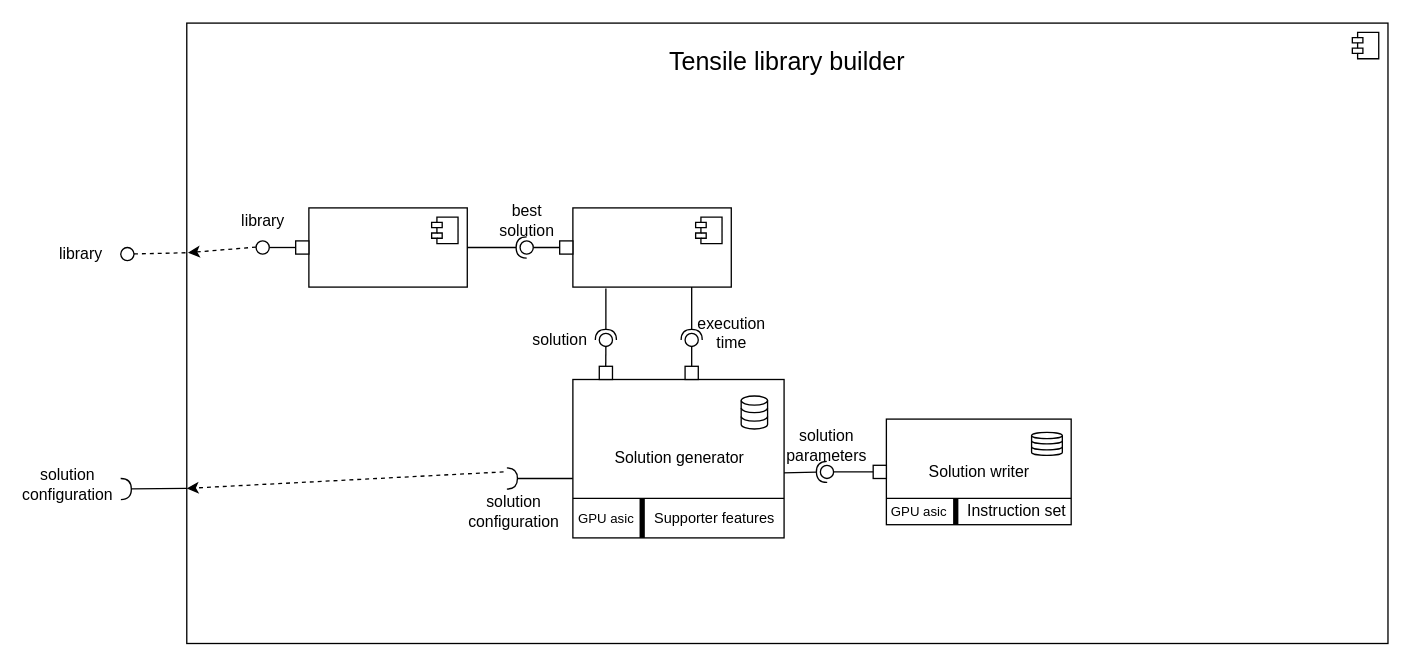
The diagram is 1411 pixels wide and 667 high, and some of its shapes have lost their labels. Each missing label, with the centre of its shape:
"Benchmark DB" goes at point 651,247.
"Library builder" goes at point 387,247.
